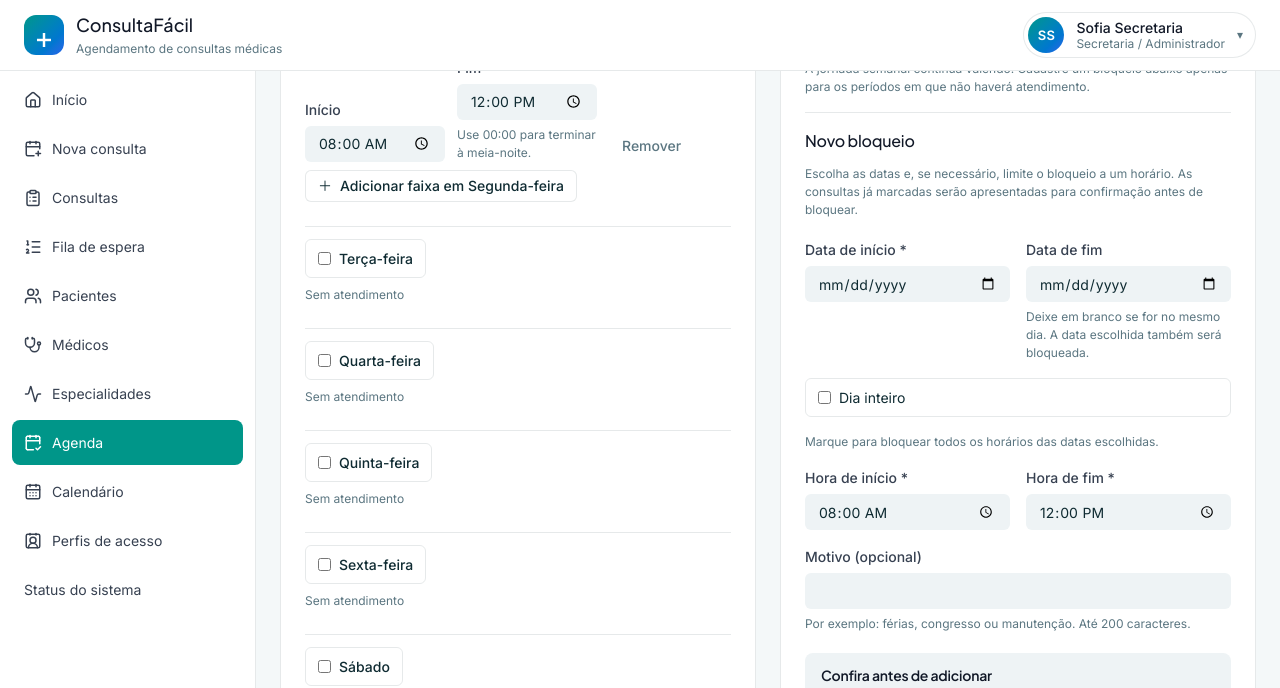
Test case: tela de agenda › carrega a jornada do médico em horas e salva em minutos
(page scrolled)
Check: the checkbox labelled "Terça-feira" is not checked, box [318,252,331,264]
Check: the time field labelled "Início" holds "08:00", box [305,126,445,162]
Click the checkbox labelled "Quarta-feira" at (324, 360), box [318,354,331,366]
(page scrolled)
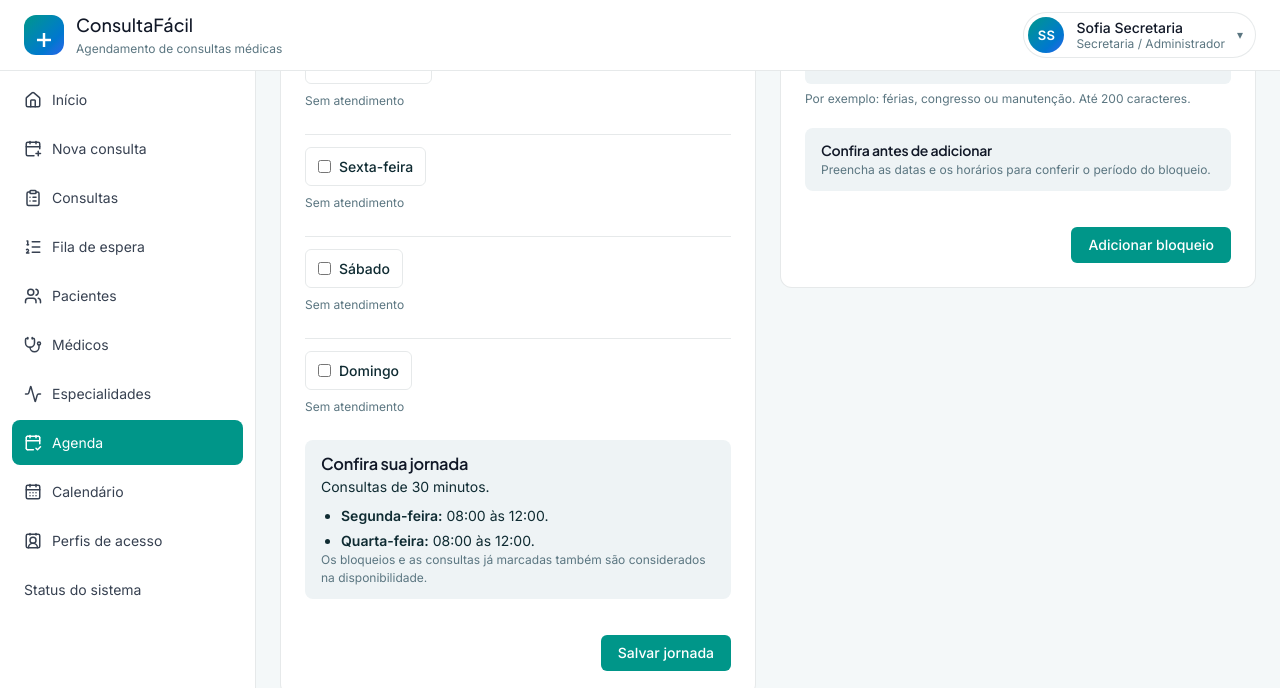
Click the button "Salvar jornada" at (666, 653), box [601,635,731,671]
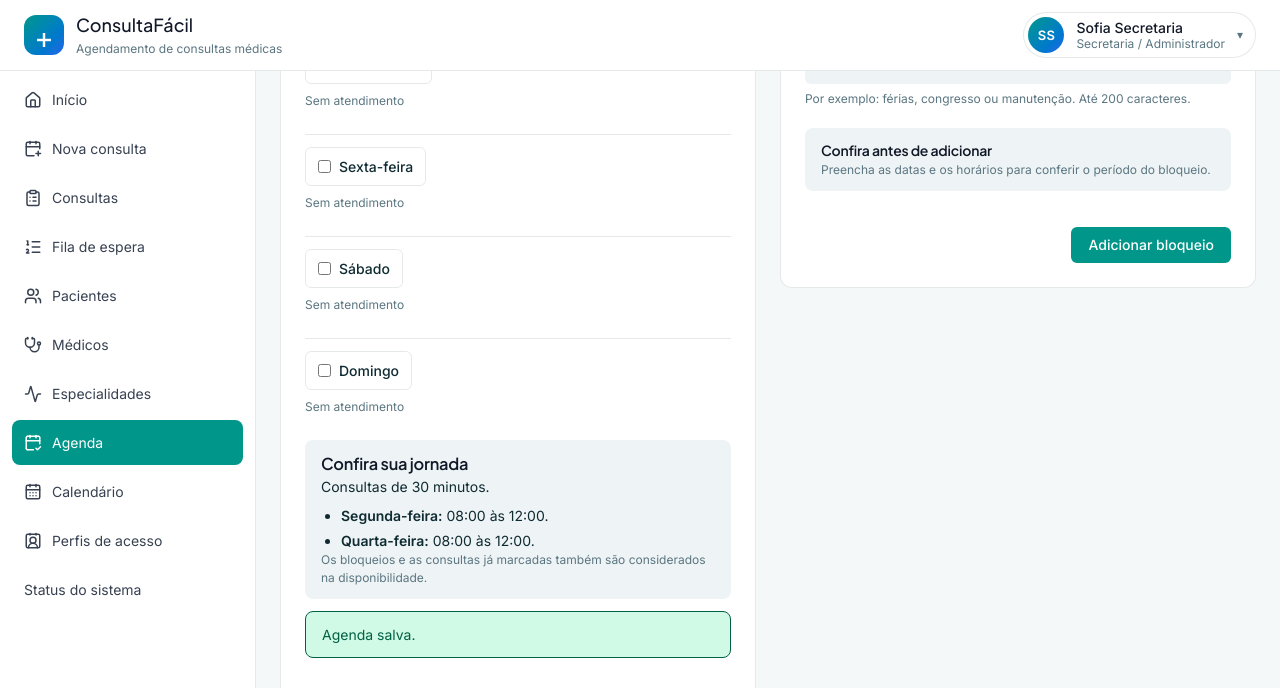
Check: the text "Agenda salva." is shown, box [322,624,416,645]
